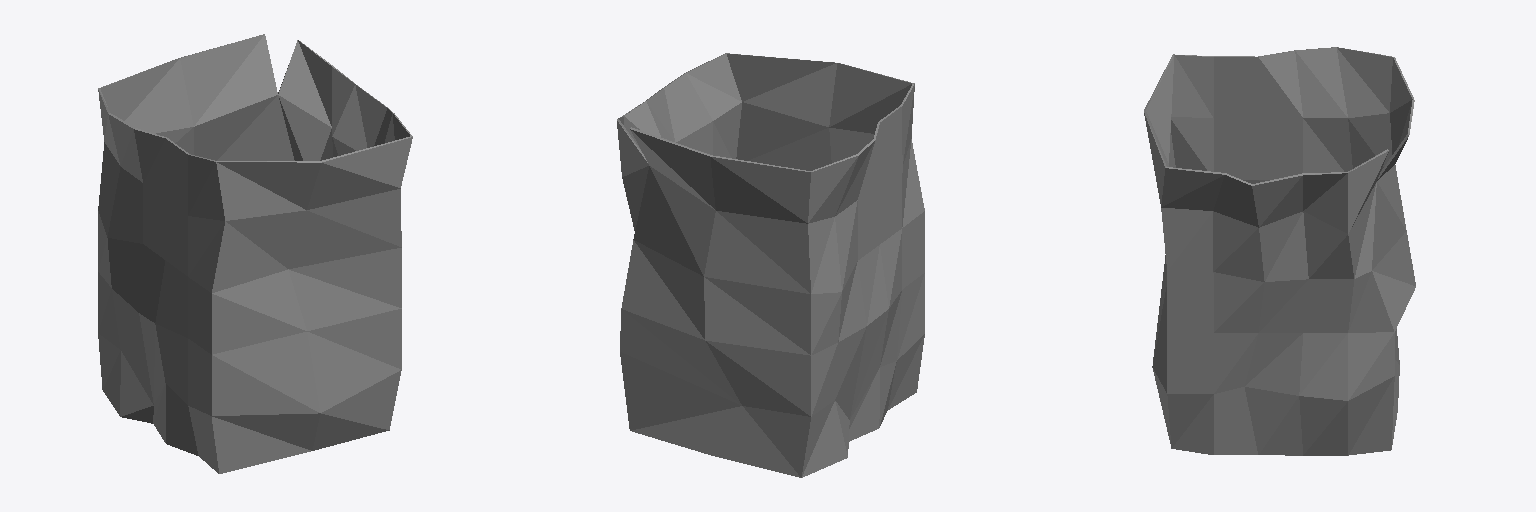
The model's file is lampion.obj.
3 renders of one model, left to right at view 1: azimuth 30°, elevation 25°; view 2: azimuth 150°, elevation 25°; view 3: azimuth 270°, elevation 25°, orthographic.
Parts seen in each view (by area): view 1: Box001; view 2: Box001; view 3: Box001.
Boxes of the visible parts, box(x1,y1,x2,y2) form: Box001: box(98, 34, 412, 473); Box001: box(617, 53, 924, 477); Box001: box(1144, 47, 1415, 455).
Size of the model in its own units: 12.04 by 15.18 by 11.89.